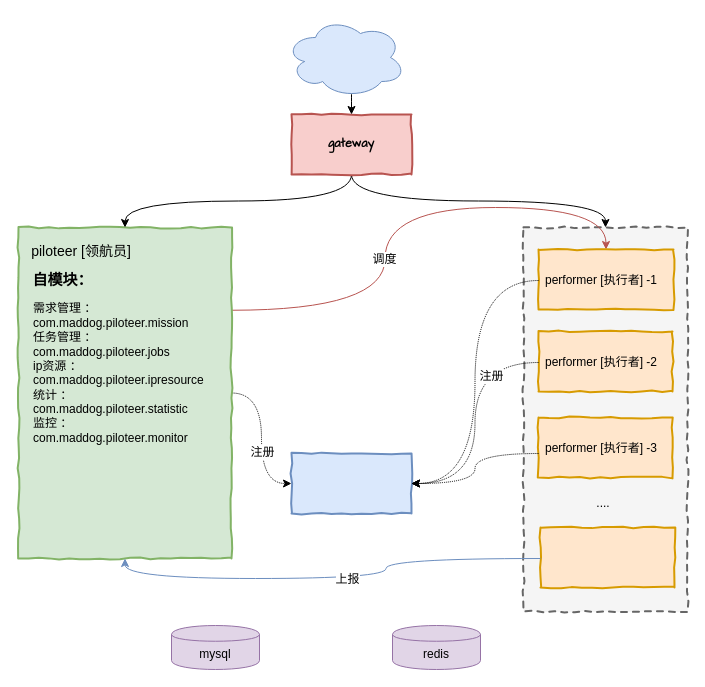
This 705x687 diagram has some shape labels left out. Each missing label, with the centre of its shape:
DNS: (x=345, y=57)
performer [执行者] -n: (x=607, y=557)
spring-eureka 注册中心: (x=351, y=483)
